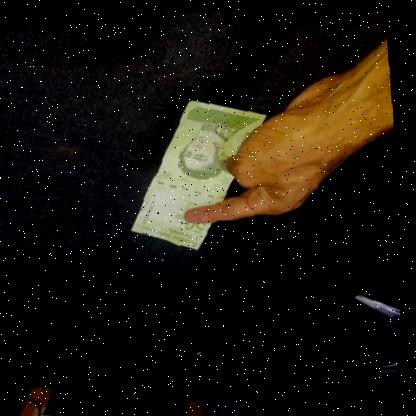vef_front: (118, 89, 282, 258)
